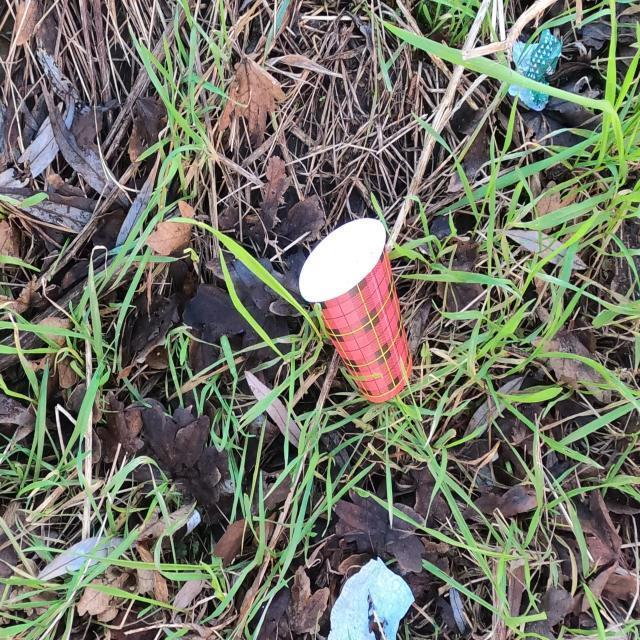Cup: (302, 209, 428, 421)
